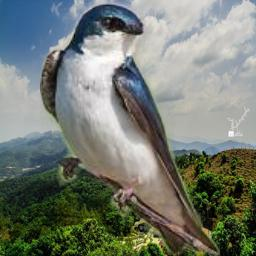Swallow: (40, 0, 220, 256)
